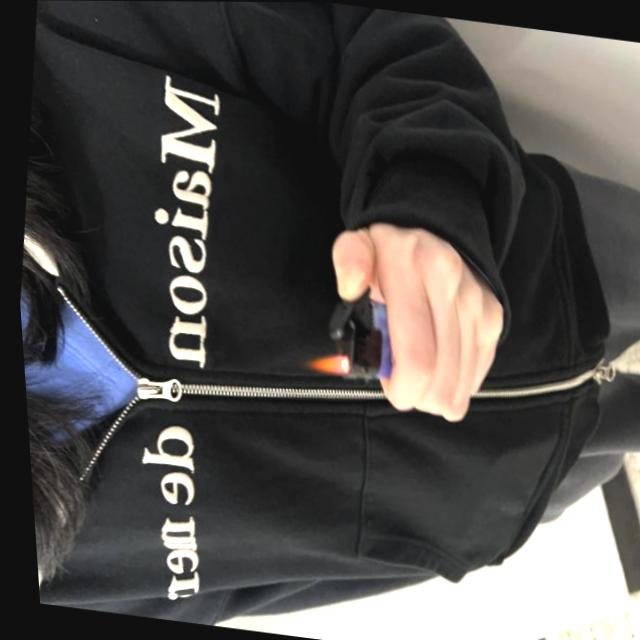helmet: (299, 345, 342, 373)
